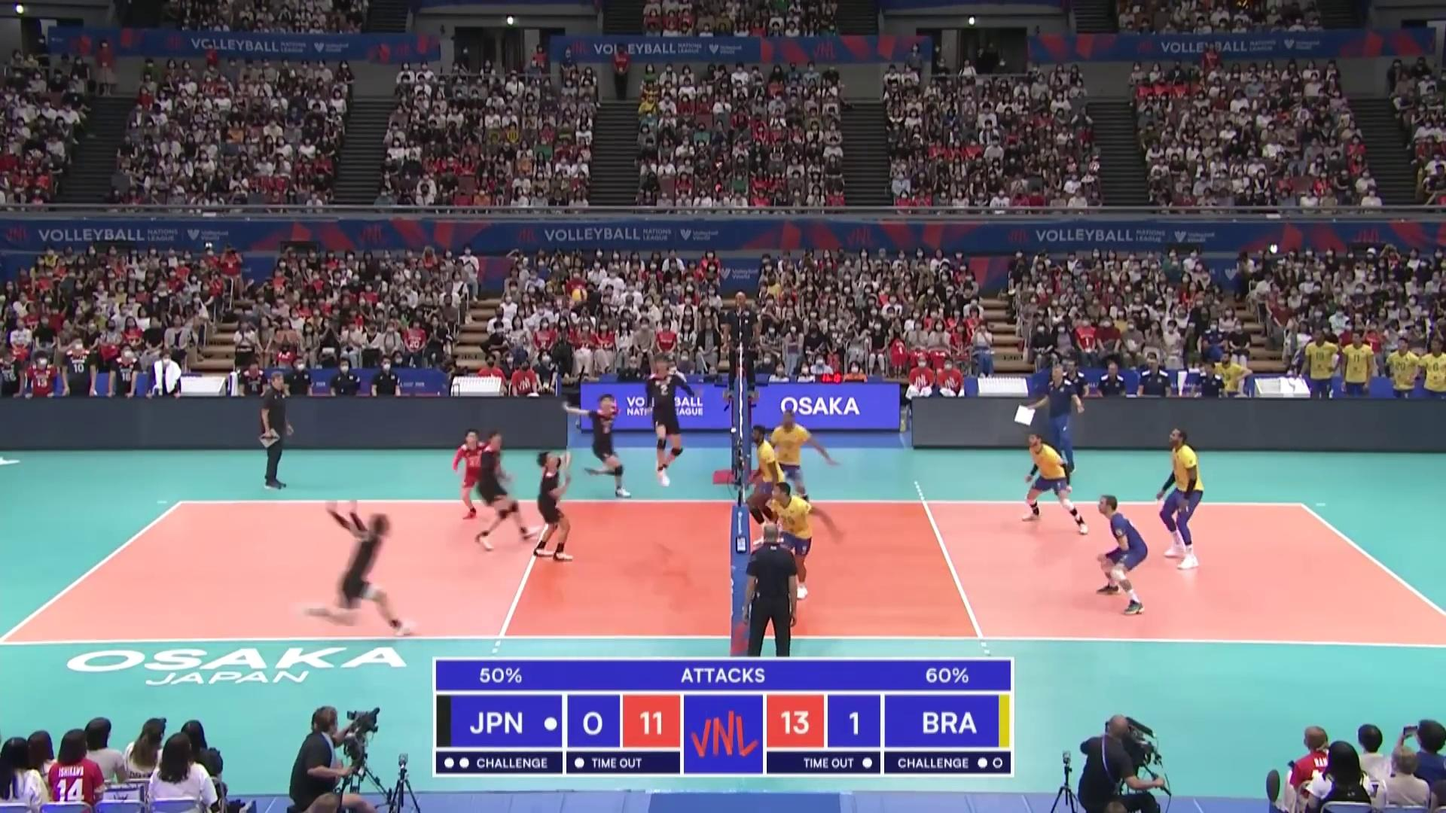player: (298, 508, 412, 633), (767, 483, 841, 603), (763, 411, 831, 523), (1018, 431, 1087, 536), (476, 431, 537, 547), (1094, 495, 1152, 614), (1158, 429, 1204, 568), (645, 356, 693, 485), (749, 425, 789, 547), (585, 396, 628, 496), (533, 451, 571, 562), (453, 429, 500, 517)
refree: (743, 525, 798, 671), (725, 291, 761, 403)
